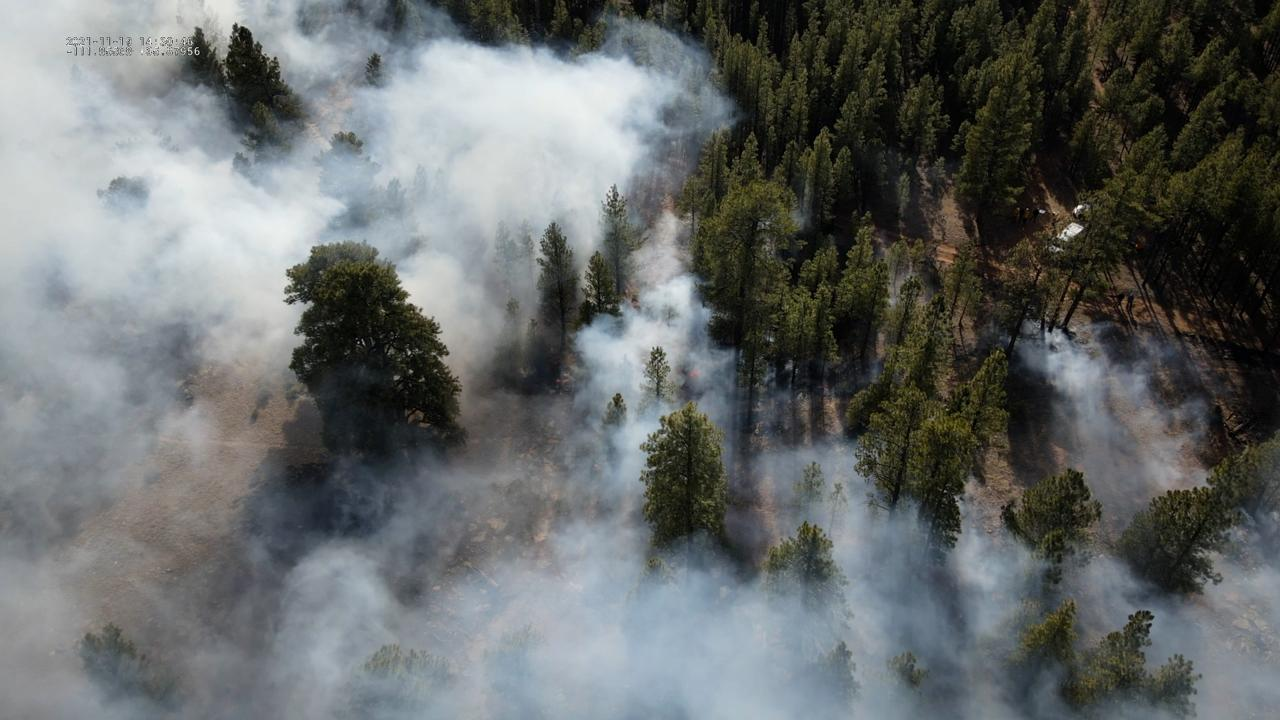fire: (687, 368, 701, 378)
smoke: (0, 0, 1280, 720)
